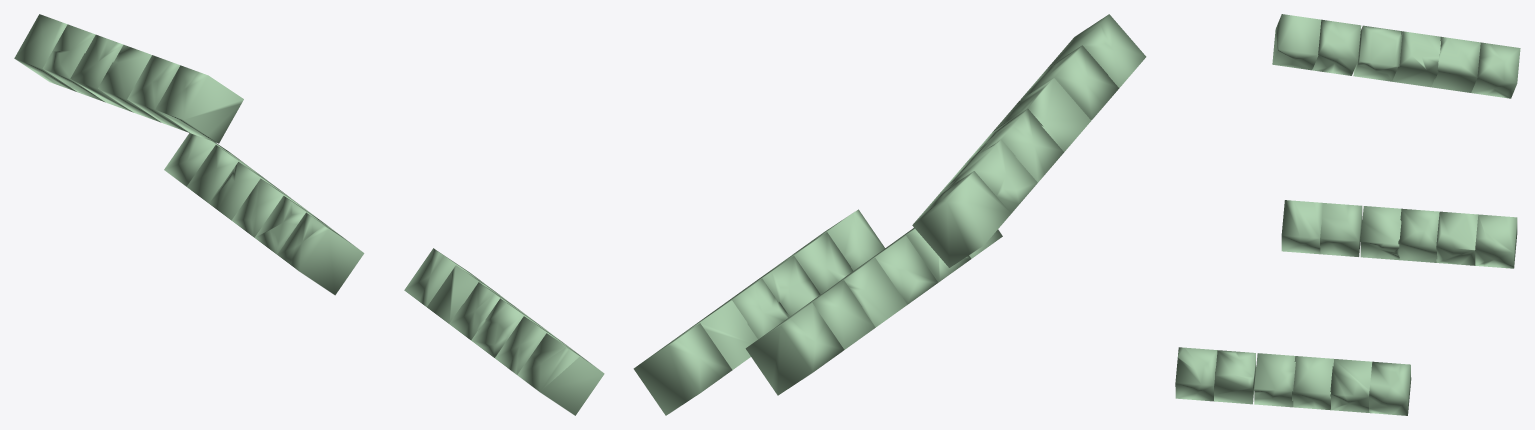
The model's file is VHF_Spleen_Extraction_Sites_1x6.fbx.
The picture shows the model from 3 angles, left to right: view 1: azimuth 30°, elevation 25°; view 2: azimuth 150°, elevation 25°; view 3: azimuth 270°, elevation 25°; orthographic projection. The views are drawn at different scales.
Parts seen in each view (by area): view 1: VHF_CC1_1_1x6, VHF_CC2_1_1x6, VHF_CC3_1_1x6, VHF_CC1_3_1x6, VHF_CC1_6_1x6, VHF_CC1_2_1x6, VHF_CC1_5_1x6, VHF_CC1_4_1x6, VHF_CC3_3_1x6, VHF_CC2_3_1x6, VHF_CC3_2_1x6, VHF_CC2_5_1x6 (+6 smaller); view 2: VHF_CC1_6_1x6, VHF_CC2_6_1x6, VHF_CC3_6_1x6, VHF_CC1_2_1x6, VHF_CC1_1_1x6, VHF_CC1_3_1x6, VHF_CC1_5_1x6, VHF_CC1_4_1x6, VHF_CC2_5_1x6, VHF_CC2_4_1x6, VHF_CC2_3_1x6, VHF_CC3_5_1x6 (+5 smaller); view 3: VHF_CC1_1_1x6, VHF_CC1_3_1x6, VHF_CC1_2_1x6, VHF_CC1_6_1x6, VHF_CC2_6_1x6, VHF_CC1_5_1x6, VHF_CC2_2_1x6, VHF_CC3_6_1x6, VHF_CC3_2_1x6, VHF_CC1_4_1x6, VHF_CC2_1_1x6, VHF_CC2_5_1x6 (+6 smaller).
Part boxes in pixels (x1,y1,x2,y2): VHF_CC1_1_1x6: [155, 65, 243, 143]; VHF_CC2_1_1x6: [277, 212, 364, 295]; VHF_CC3_1_1x6: [517, 333, 604, 415]; VHF_CC1_3_1x6: [98, 45, 161, 122]; VHF_CC1_6_1x6: [14, 14, 76, 91]; VHF_CC1_2_1x6: [127, 55, 189, 132]; VHF_CC1_5_1x6: [42, 24, 105, 102]; VHF_CC1_4_1x6: [70, 34, 133, 112]; VHF_CC3_3_1x6: [471, 298, 556, 357]; VHF_CC2_3_1x6: [231, 178, 316, 237]; VHF_CC3_2_1x6: [495, 316, 578, 374]; VHF_CC2_5_1x6: [186, 145, 271, 203]; VHF_CC1_6_1x6: [912, 171, 1011, 267]; VHF_CC2_6_1x6: [745, 303, 844, 395]; VHF_CC3_6_1x6: [633, 323, 732, 415]; VHF_CC1_2_1x6: [1020, 45, 1119, 120]; VHF_CC1_1_1x6: [1048, 14, 1146, 87]; VHF_CC1_3_1x6: [993, 78, 1091, 151]; VHF_CC1_5_1x6: [940, 139, 1037, 213]; VHF_CC1_4_1x6: [966, 108, 1064, 182]; VHF_CC2_5_1x6: [779, 280, 875, 349]; VHF_CC2_4_1x6: [812, 258, 907, 327]; VHF_CC2_3_1x6: [844, 235, 938, 304]; VHF_CC3_5_1x6: [670, 300, 757, 369]; VHF_CC1_1_1x6: [1272, 14, 1321, 70]; VHF_CC1_3_1x6: [1353, 25, 1402, 81]; VHF_CC1_2_1x6: [1312, 19, 1361, 75]; VHF_CC1_6_1x6: [1471, 42, 1520, 98]; VHF_CC2_6_1x6: [1475, 214, 1517, 268]; VHF_CC1_5_1x6: [1431, 36, 1480, 92]; VHF_CC2_2_1x6: [1320, 203, 1362, 256]; VHF_CC3_6_1x6: [1369, 361, 1411, 415]; VHF_CC3_2_1x6: [1214, 350, 1256, 404]; VHF_CC1_4_1x6: [1392, 31, 1440, 87]; VHF_CC2_1_1x6: [1281, 200, 1323, 254]; VHF_CC2_5_1x6: [1436, 211, 1478, 265].
Bounding box in the file's own units: 61.24 × 57.23 × 62.68.
